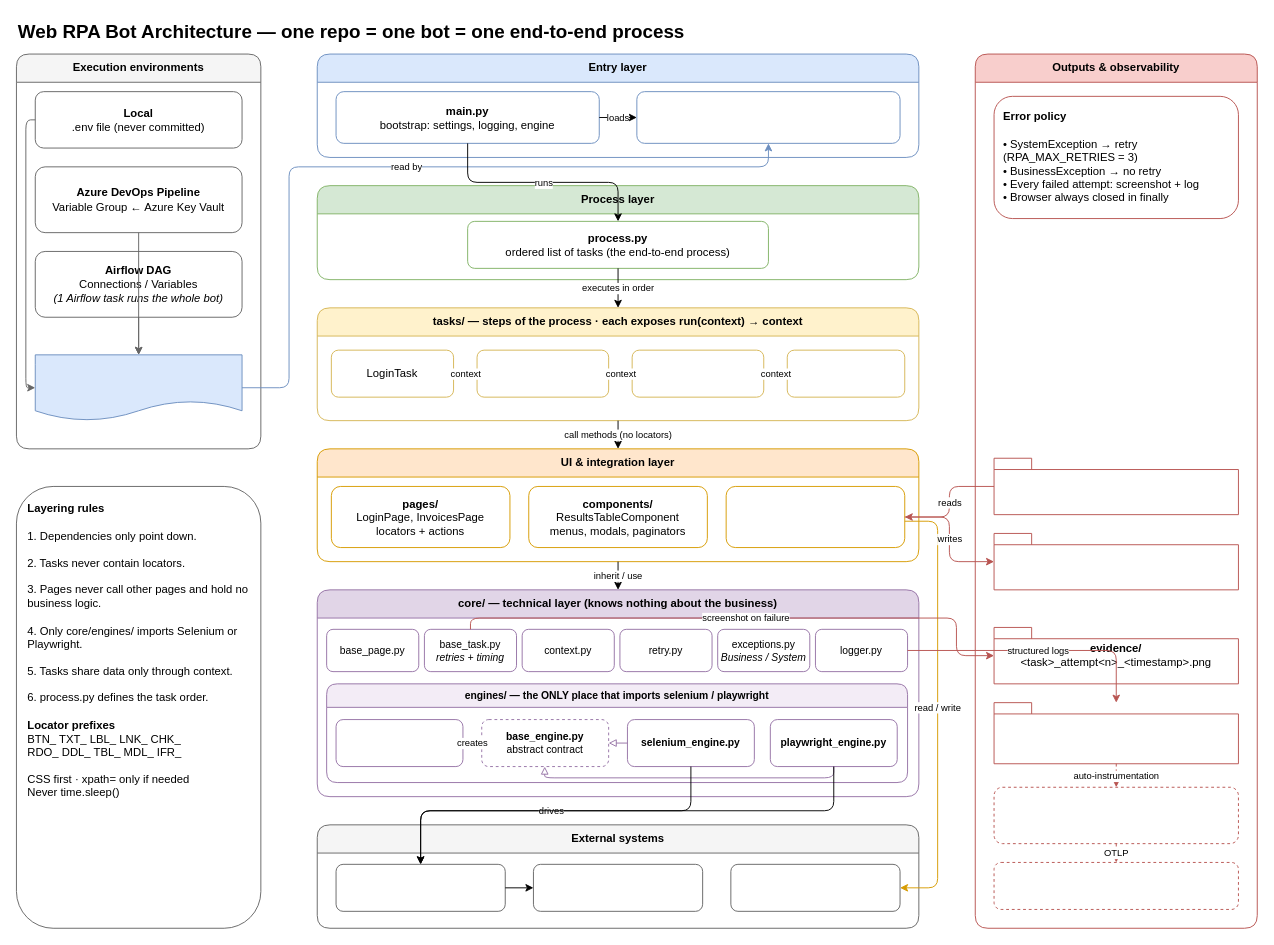
Image size: 1274x945. Some labels were removed from this diagram. The centre of each missing label's shape, as x and y in pixels:
"Browser Chrome / Edge / Chromium" belongs at pixel 420 887.
"config/settings.py typed settings from env vars" belongs at pixel 768 117.
"ConsolidateReportTask" belongs at pixel 697 373.
"data/input/ files the bot consumes" belongs at pixel 1115 486.
"data/output/ <process>_<YYYYMMDD_HHMMSS>.xlsx" belongs at pixel 1115 561.
"DownloadInvoicesTask" belongs at pixel 542 373.
"engine_factory.py reads RPA_ENGINE" belongs at pixel 399 743.
"Environment variables RPA_* · OTEL_*" belongs at pixel 138 387.
"Excel · Email · DB · APIs" belongs at pixel 815 887.
"Grafana / Azure Monitor / any OTLP backend" belongs at pixel 1115 885.
"logs/ + console process_name · task · attempt · status · duration_ms" belongs at pixel 1115 733.
"OpenTelemetry Collector (optional) opentelemetry-instrument python main.py" belongs at pixel 1115 815.
"SendReportTask" belongs at pixel 845 373.
"services/ ExcelService, EmailService DB, APIs (no browser)" belongs at pixel 815 517.
"Target website" belongs at pixel 618 887.
